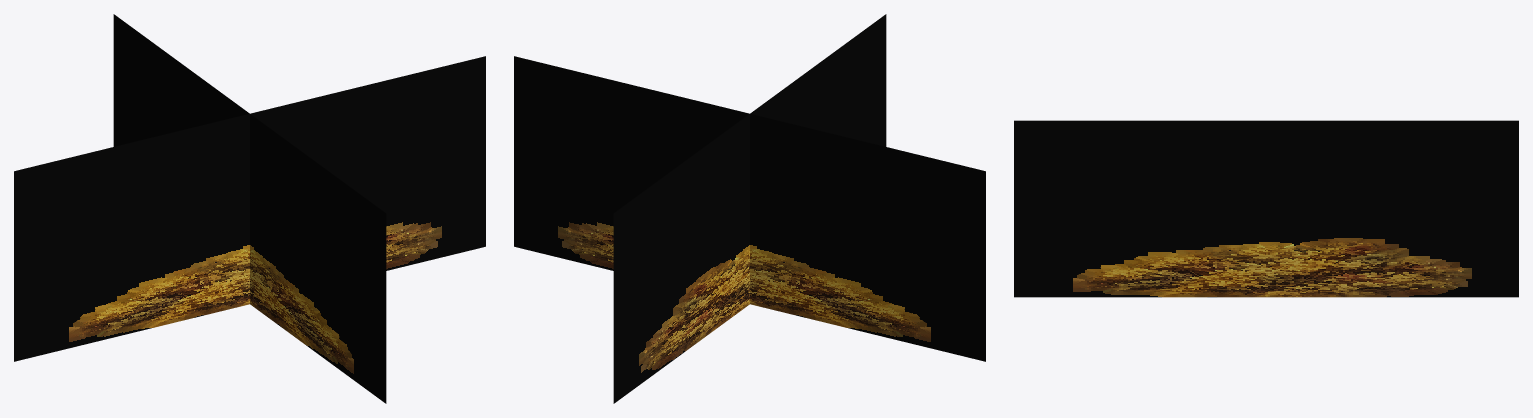
File: bush_v2_02.glb
3 views of the same model, side by side, from view 1: azimuth 30°, elevation 25°; view 2: azimuth 150°, elevation 25°; view 3: azimuth 270°, elevation 25° (orthographic). The views are drawn at different scales.
Visible parts, largest first — view 1: bush_v2_02; view 2: bush_v2_02; view 3: bush_v2_02.
Part boxes in pixels (<box>): bush_v2_02: <box>14,14,485,403</box>; bush_v2_02: <box>514,14,985,403</box>; bush_v2_02: <box>1014,120,1518,297</box>.
Size of the model in its own units: 5.7 by 2.2 by 5.7.
1 material, 1 textured.
